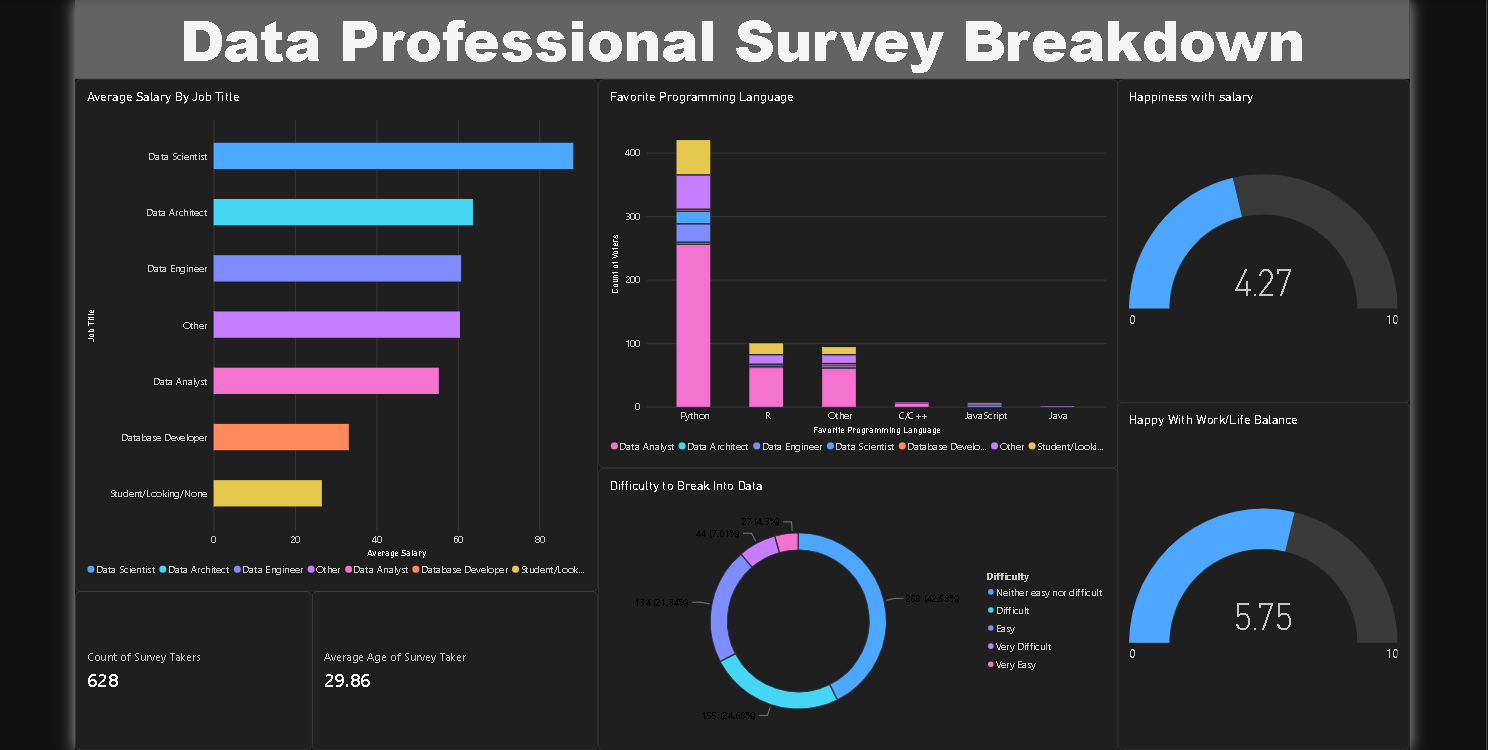

Layout of this report page (visuals, bound fields, positions):
{"tool":"powerbi","page":{"name":"Page 1","canvas":[1920,1080],"ordinal":0},"visuals":[{"type":"textbox","box":[0,0,1919.3,113.6],"z":0},{"type":"cardVisual","fields":{"Data":["CountNonNull(Data Professional Survey.Unique ID)"]},"box":[0,849.5,340.7,229.4],"z":1},{"type":"cardVisual","fields":{"Data":["Avg(Data Professional Survey.Q10 - Current Age)"]},"box":[340.7,849.5,411.1,229.4],"z":2},{"type":"barChart","title":"Average Salary By Job Title","fields":{"Category":["Data Professional Survey.Q1 - Which Title Best Fits your Current Role?.1"],"Series":["Data Professional Survey.Q1 - Which Title Best Fits your Current Role?.1"],"Y":["Avg(Data Professional Survey.Average Salary)"]},"box":[0,113.6,751.8,735.9],"z":3},{"type":"columnChart","title":"Favorite Programming Language","fields":{"Category":["Data Professional Survey.Q5 - Favorite Programming Language.1"],"Series":["Data Professional Survey.Q1 - Which Title Best Fits your Current Role?.1"],"Y":["CountNonNull(Data Professional Survey.Unique ID)"]},"box":[751.8,113.6,747.3,558.7],"z":4},{"type":"gauge","title":"Happy With Work/Life Balance","fields":{"MaxValue":["Max(Data Professional Survey.Q6 - How Happy are you in your Current Position with the following? (Work/Life Balance))2"],"MinValue":["Min(Data Professional Survey.Q6 - How Happy are you in your Current Position with the following? (Work/Life Balance))1"],"Y":["Avg(Data Professional Survey.Q6 - How Happy are you in your Current Position with the following? (Work/Life Balance))"]},"box":[1499.1,579.2,420.2,499.7],"z":5},{"type":"gauge","title":"Happiness with salary","fields":{"MaxValue":["Max(Data Professional Survey.Q6 - How Happy are you in your Current Position with the following? (Salary))"],"MinValue":["Min(Data Professional Survey.Q6 - How Happy are you in your Current Position with the following? (Salary))"],"Y":["Avg(Data Professional Survey.Q6 - How Happy are you in your Current Position with the following? (Salary))"]},"box":[1499.1,113.6,420.2,465.6],"z":6},{"type":"donutChart","title":"Difficulty to Break Into Data","fields":{"Category":["Data Professional Survey.Q7 - How difficult was it for you to break into Data?"],"Y":["CountNonNull(Data Professional Survey.Q7 - How difficult was it for you to break into Data?)"]},"box":[751.8,672.3,747.3,406.6],"z":7}]}

Visuals, with their boxes on the page's 1920x1080 design canvas (x1, y1, x2, y2). These are canvas units, not pixel positions in the 1488x750 screenshot, which may show the page scaled, cropped or inside an application window:
textbox: 0, 0, 1919, 114
cardVisual - CountNonNull(Data Professional Survey.Unique ID): 0, 850, 341, 1079
cardVisual - Avg(Data Professional Survey.Q10 - Current Age): 341, 850, 752, 1079
"Average Salary By Job Title" barChart: 0, 114, 752, 850
"Favorite Programming Language" columnChart: 752, 114, 1499, 672
"Happy With Work/Life Balance" gauge: 1499, 579, 1919, 1079
"Happiness with salary" gauge: 1499, 114, 1919, 579
"Difficulty to Break Into Data" donutChart: 752, 672, 1499, 1079
